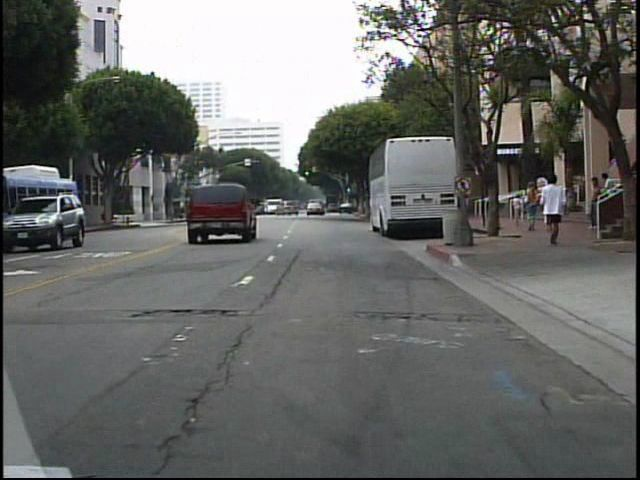person: (542, 173, 572, 250), (599, 168, 617, 230), (584, 173, 602, 232), (524, 179, 541, 235), (510, 191, 526, 228)
